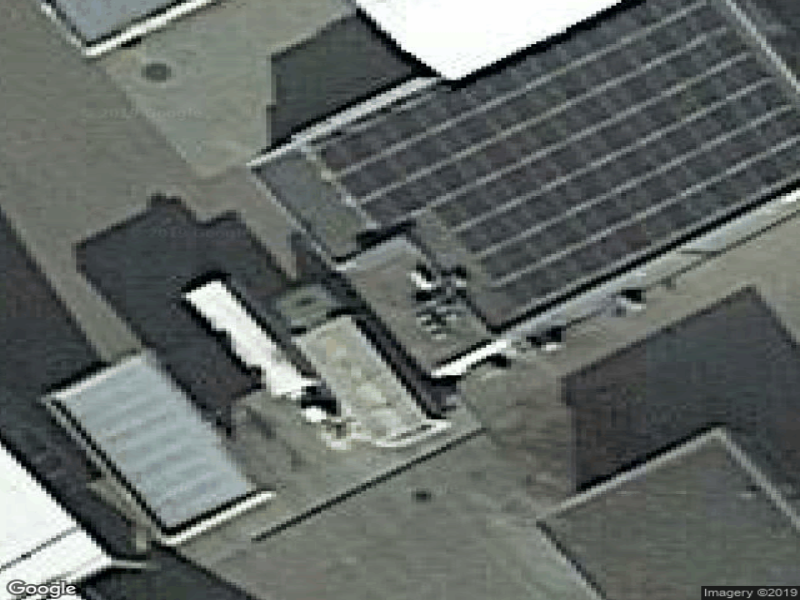pv: (310, 5, 798, 317)
